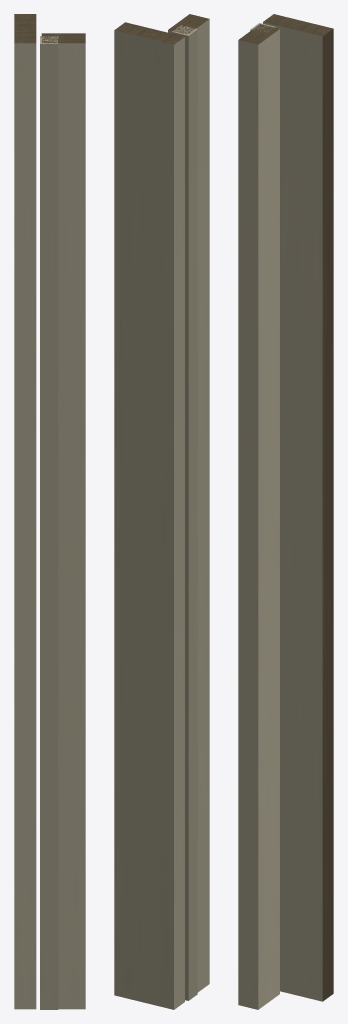
File: house_04_corner_trim.glb
3 views of the same model, side by side, from view 1: azimuth 90°, elevation 25°; view 2: azimuth 150°, elevation 25°; view 3: azimuth 330°, elevation 25° (orthographic).
Parts seen in each view (by area): view 1: outdoor_house_04_corner_trim; view 2: outdoor_house_04_corner_trim; view 3: outdoor_house_04_corner_trim.
Part boxes in pixels (x1,y1,x2,y2): outdoor_house_04_corner_trim: [14, 14, 85, 1009]; outdoor_house_04_corner_trim: [114, 14, 209, 1009]; outdoor_house_04_corner_trim: [238, 14, 333, 1009].
Bounding box in the file's own units: 0.18 × 2.7 × 0.18.
1 material, 1 textured.
